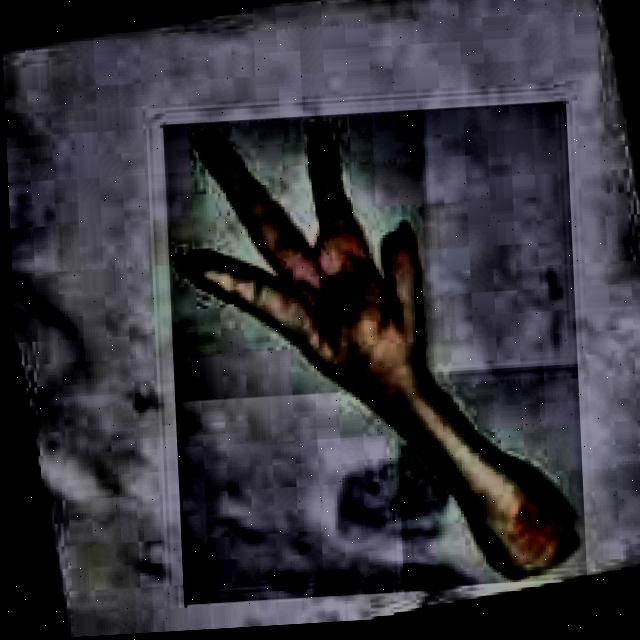Bumble foot: (316, 277, 372, 324)
